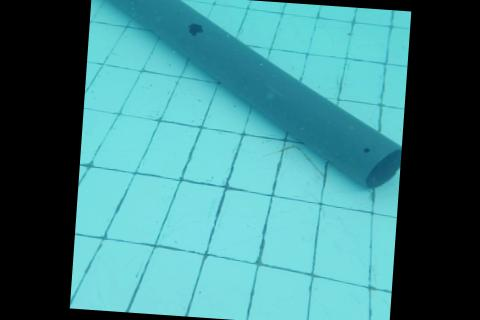kebocoran: (187, 21, 204, 36), (362, 146, 370, 153)
